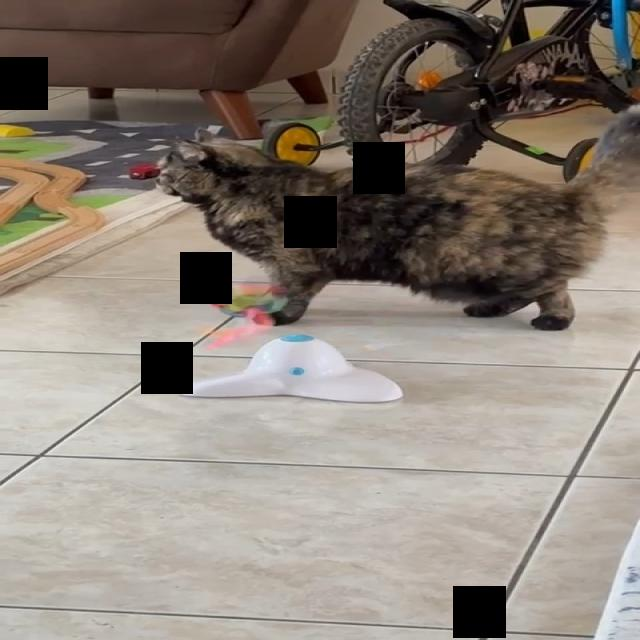authorized: (153, 105, 638, 330)
